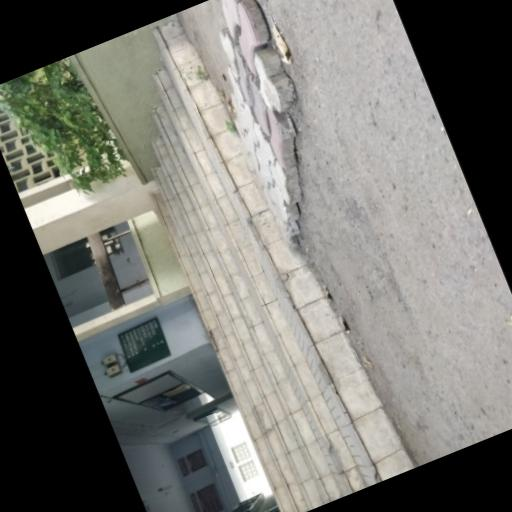stairs: (153, 22, 414, 511)
